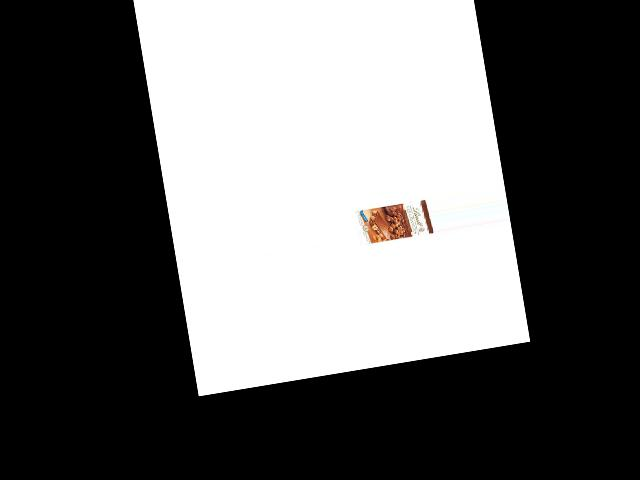chocolate: (358, 197, 432, 250)
